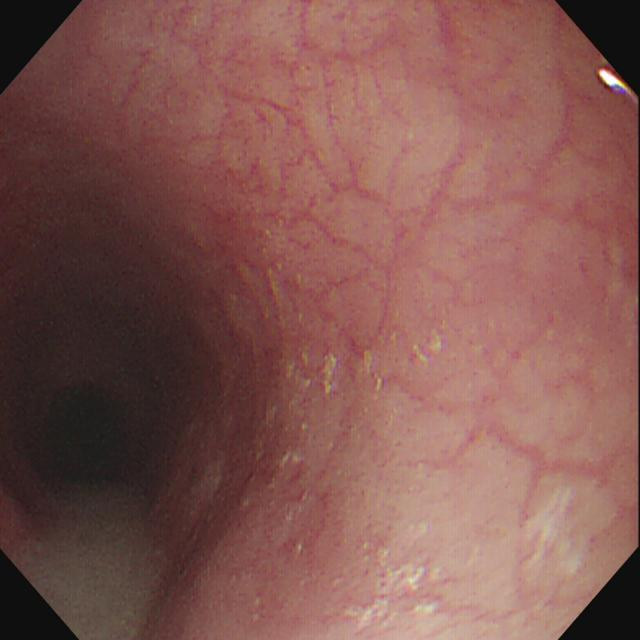E: (51, 388, 121, 484)
J: (32, 515, 154, 638), (345, 538, 442, 631), (321, 352, 338, 397), (278, 445, 308, 470)
U: (598, 69, 640, 105)
